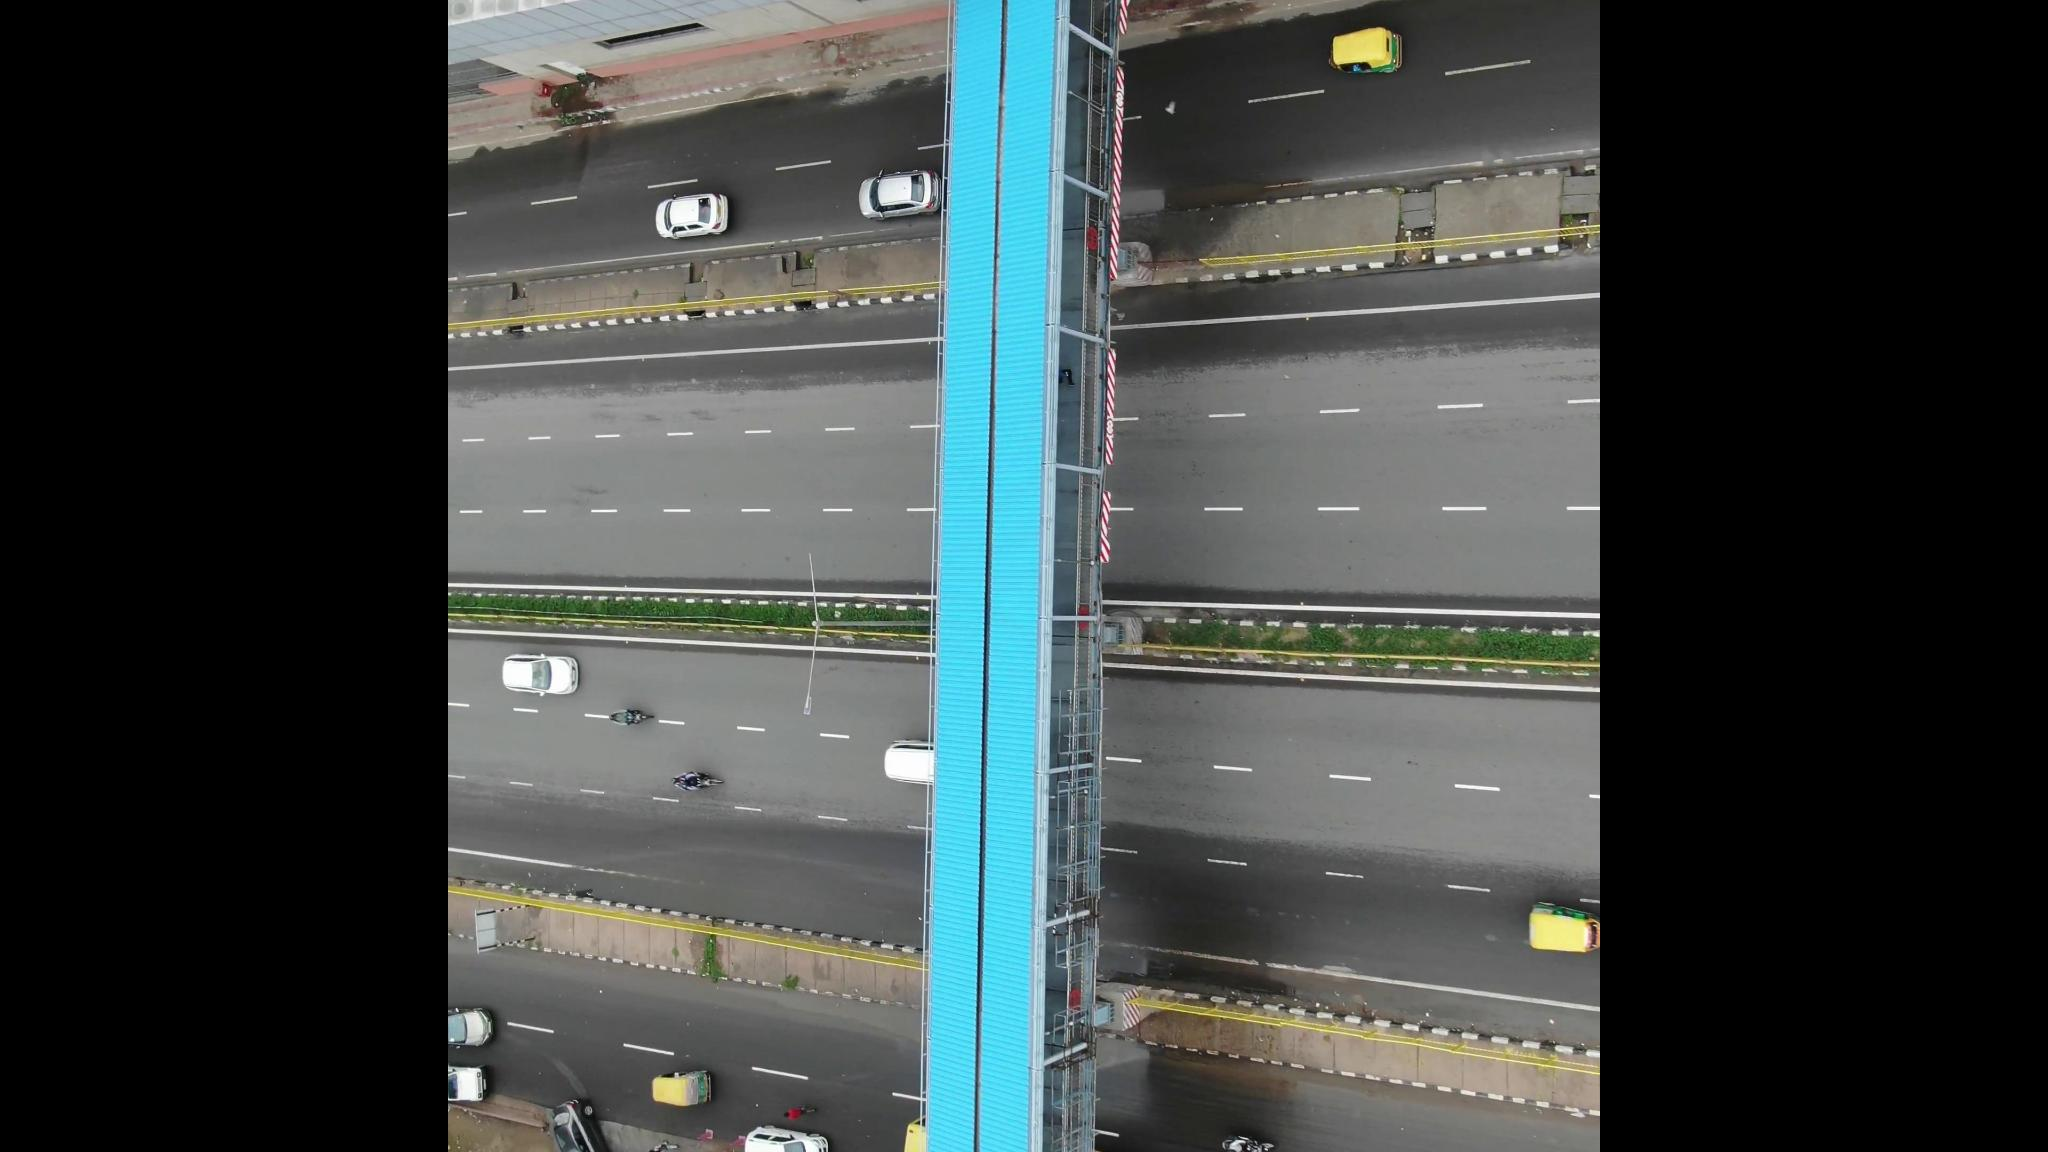Waterlogging: (605, 845, 933, 942)
